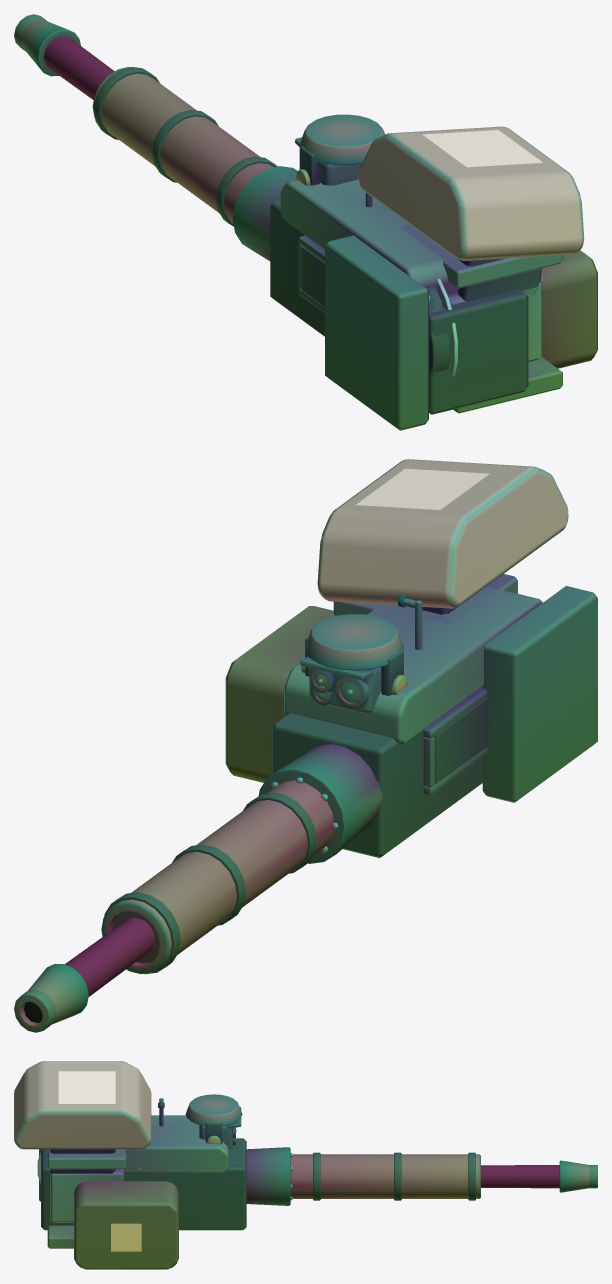
The model's file is arm_hmg.glb.
3 renders of one model, top to bottom at view 1: azimuth 30°, elevation 25°; view 2: azimuth 150°, elevation 25°; view 3: azimuth 270°, elevation 25°, orthographic. The views are drawn at different scales.
Visible parts, largest first — view 1: Body__gunmetal, Body__dark, Body__armor, Body__armor_sub, Body__armor_oxide, Body__decal, Body__armor_dark, Body__chrome; view 2: Body__gunmetal, Body__armor, Body__dark, Body__armor_sub, Body__armor_oxide, Body__decal, Body__armor_dark; view 3: Body__gunmetal, Body__armor, Body__dark, Body__armor_oxide, Body__armor_sub, Body__decal, Body__armor_dark.
Part boxes in pixels (box(x1,y1,x2,y2)): Body__gunmetal: box(14, 14, 458, 430); Body__dark: box(44, 36, 541, 414); Body__armor: box(358, 126, 584, 362); Body__armor_sub: box(280, 179, 562, 413); Body__armor_oxide: box(540, 250, 597, 368); Body__decal: box(423, 130, 542, 167); Body__armor_dark: box(320, 162, 361, 185); Body__chrome: box(429, 278, 457, 376); Body__gunmetal: box(14, 586, 597, 1032); Body__armor: box(317, 459, 568, 608); Body__dark: box(65, 594, 487, 996); Body__armor_sub: box(284, 574, 542, 743); Body__armor_oxide: box(225, 606, 334, 782); Body__decal: box(356, 468, 489, 509); Body__armor_dark: box(309, 667, 381, 714); Body__gunmetal: box(39, 1094, 597, 1205); Body__armor: box(14, 1061, 151, 1222); Body__dark: box(41, 1101, 559, 1230); Body__armor_oxide: box(74, 1181, 178, 1269); Body__armor_sub: box(47, 1115, 229, 1248); Body__decal: box(58, 1071, 141, 1251); Body__armor_dark: box(199, 1125, 232, 1149).
Size of the model in its own units: 0.772 by 0.809 by 2.67.
